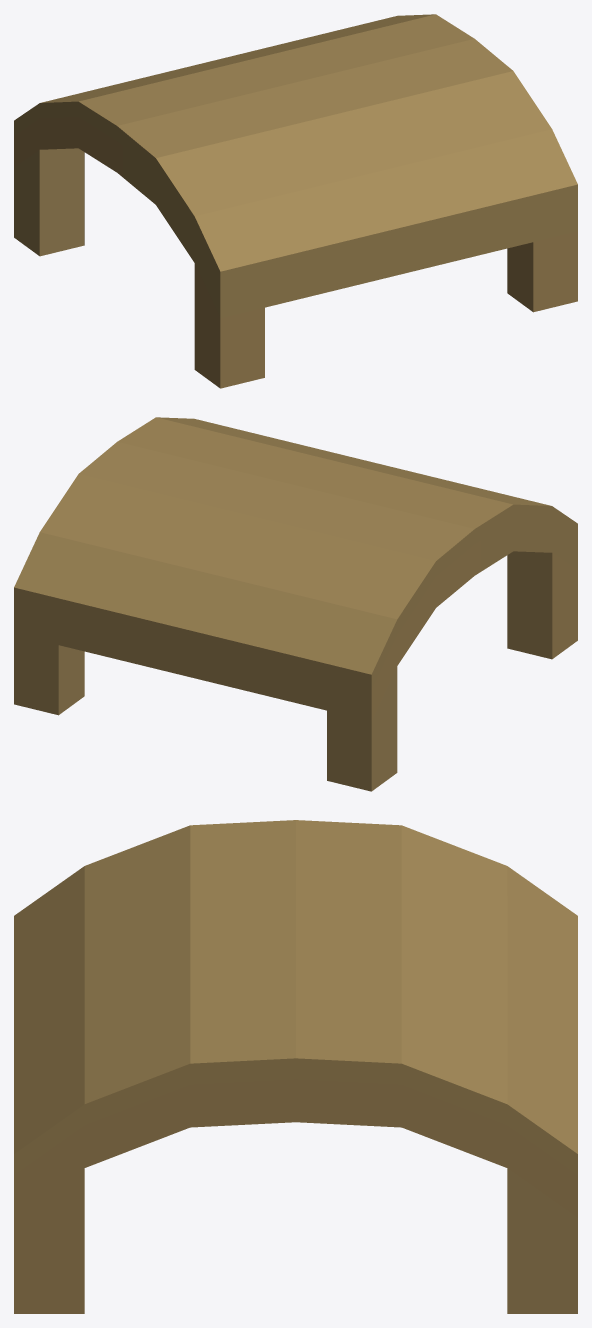
File: Arch-1x1.obj
The picture shows the model from 3 angles, top to bottom: view 1: azimuth 30°, elevation 25°; view 2: azimuth 150°, elevation 25°; view 3: azimuth 270°, elevation 25°; orthographic projection. The views are drawn at different scales.
Visible parts, largest first — view 1: pCube15; view 2: pCube15; view 3: pCube15.
Part boxes in pixels (bbox=[...]): pCube15: bbox=[14, 14, 577, 388]; pCube15: bbox=[14, 417, 577, 791]; pCube15: bbox=[14, 820, 577, 1313].
Bounding box in the file's own units: 8 × 4 × 8.
1 material, 1 textured.
